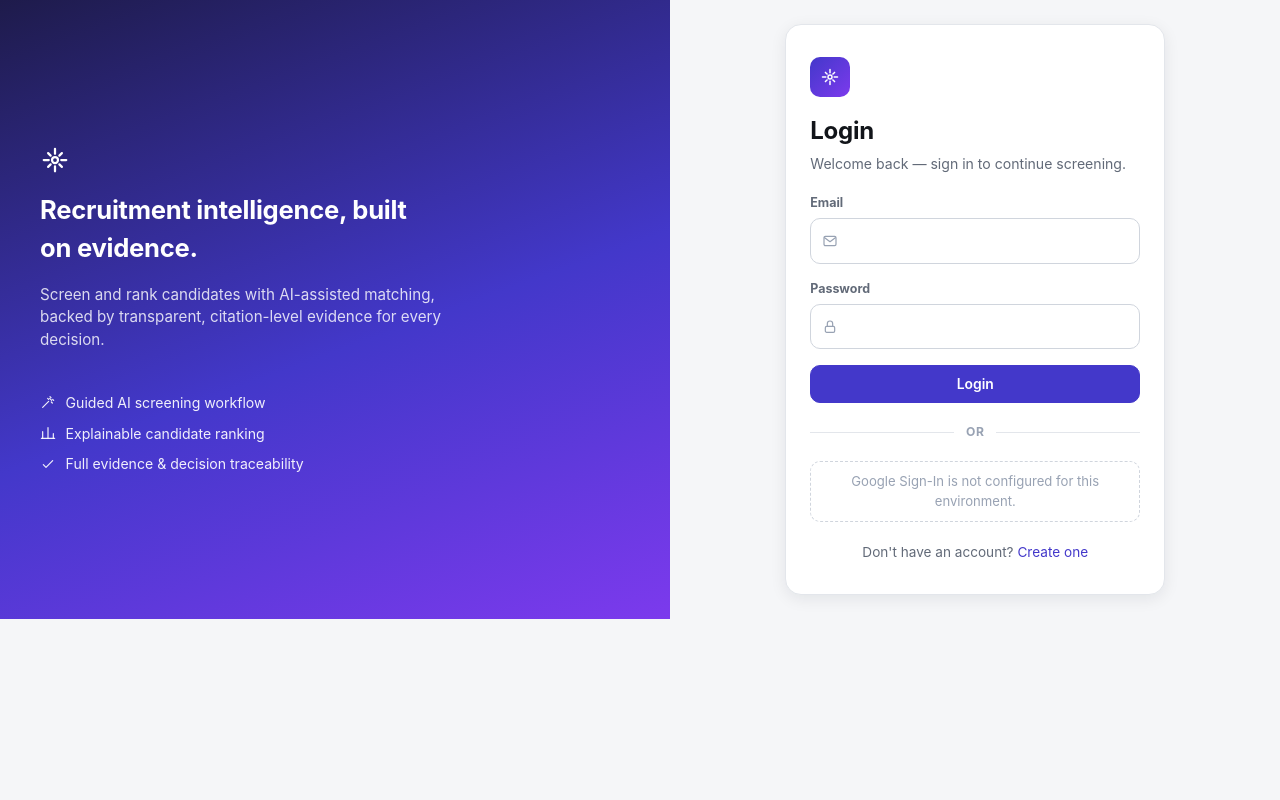
Test: LoginPage › shows the backend's error message on failed login
The image size is (1280, 800).
Step 1. Type "google-user@example.com" into the field labelled "Email" → [975, 241], box [810, 218, 1140, 264]
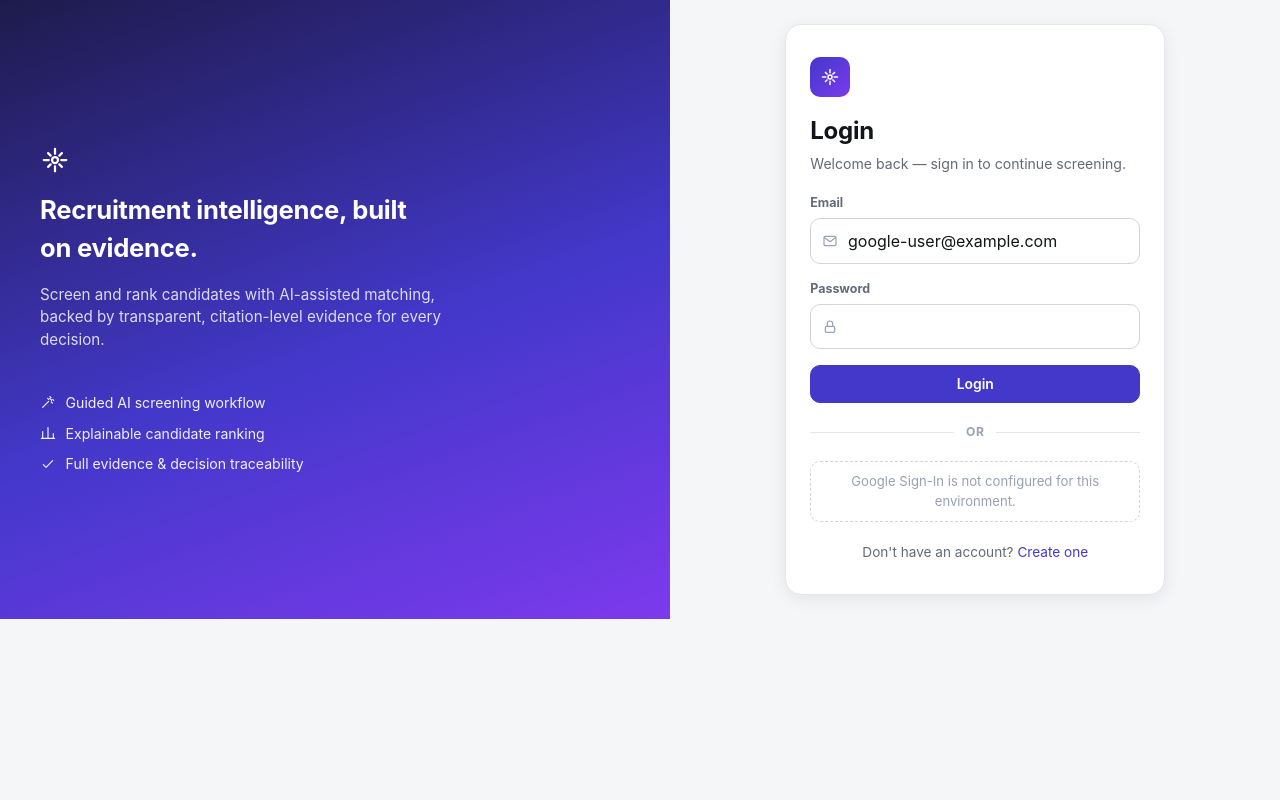
Step 2. Type "whatever" into the password field labelled "Password" → [975, 326], box [810, 304, 1140, 349]
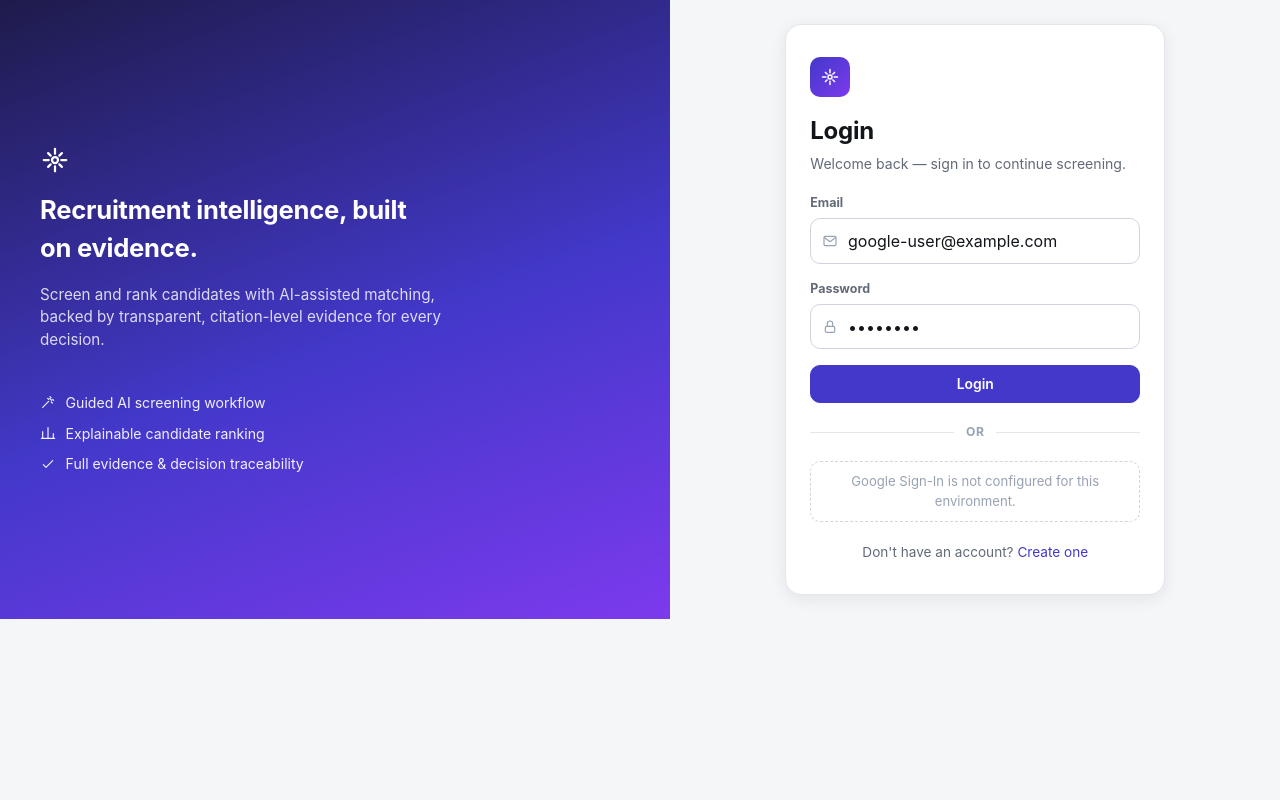
Step 3. Click the button "Login" → [975, 384], box [810, 365, 1140, 403]
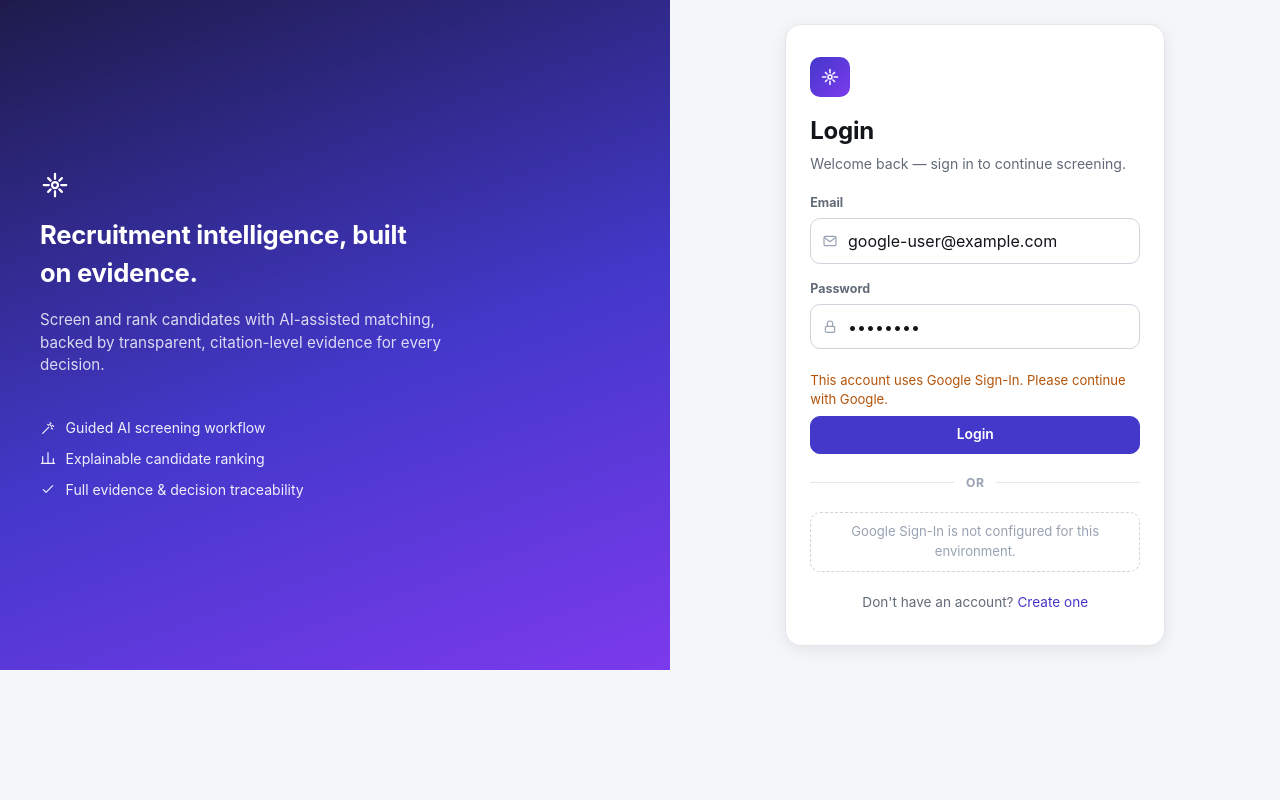
Expected: the text "This account uses Google Sign-In. Please continue with Google." is shown, [810, 371, 1140, 410]
